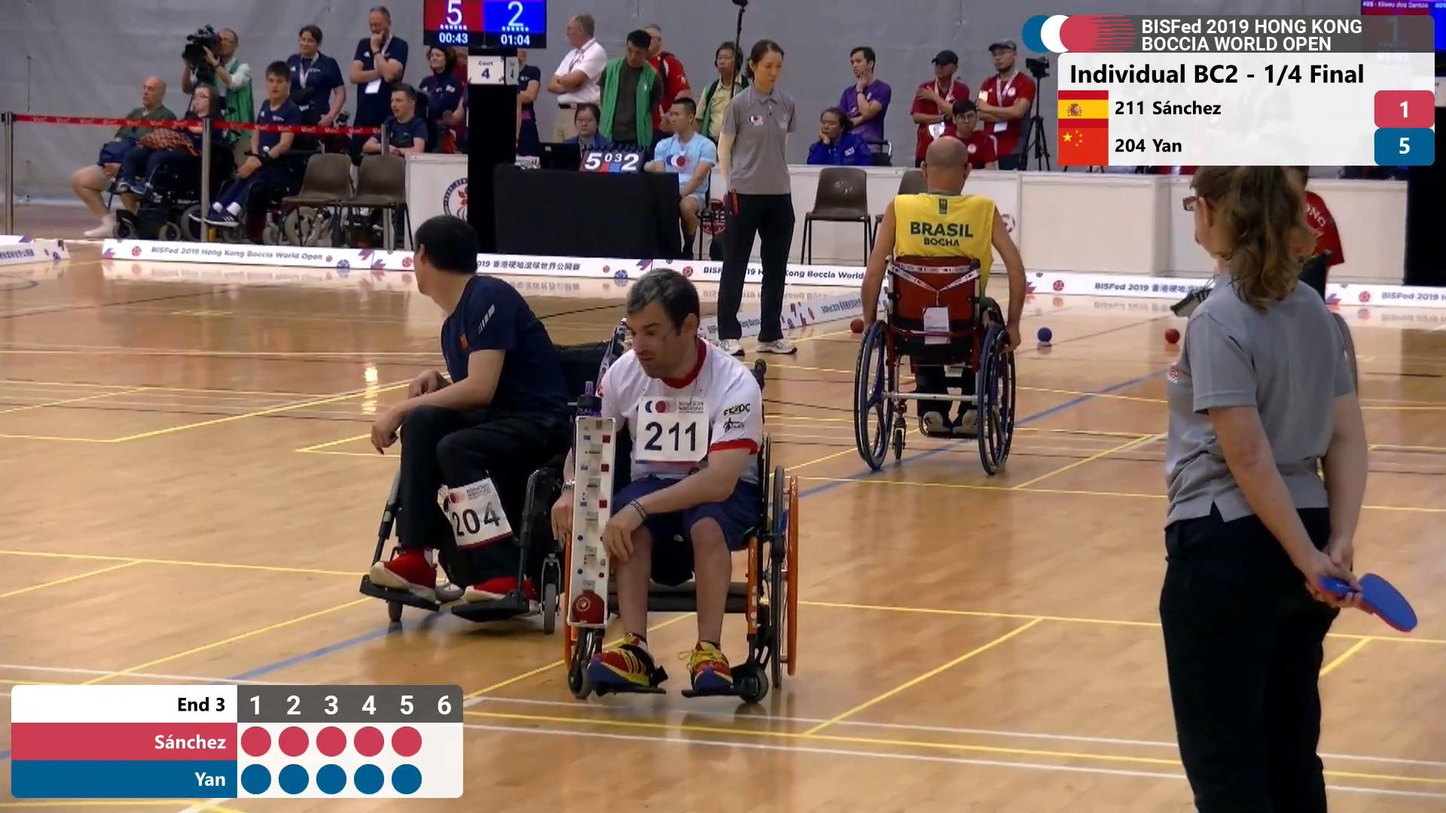blue_ball: (1036, 325, 1053, 345)
red_ball: (1164, 328, 1182, 346), (849, 318, 867, 334)
